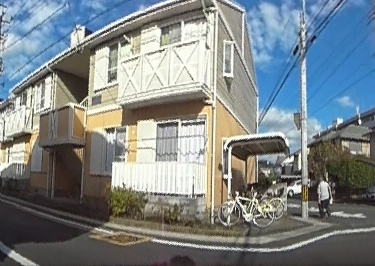person: (316, 175, 329, 215)
